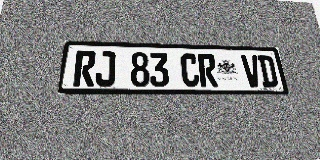3: (150, 52, 169, 87)
8: (130, 52, 149, 87)
C: (180, 53, 200, 87)
D: (257, 55, 279, 87)
J: (94, 51, 116, 87)
R: (73, 51, 96, 86), (198, 54, 218, 87)
V: (241, 55, 262, 87)
